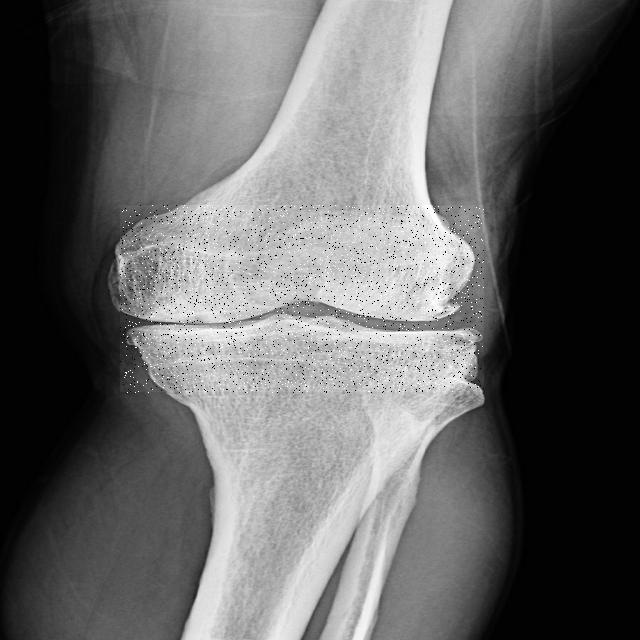osteo: (120, 205, 484, 394)
